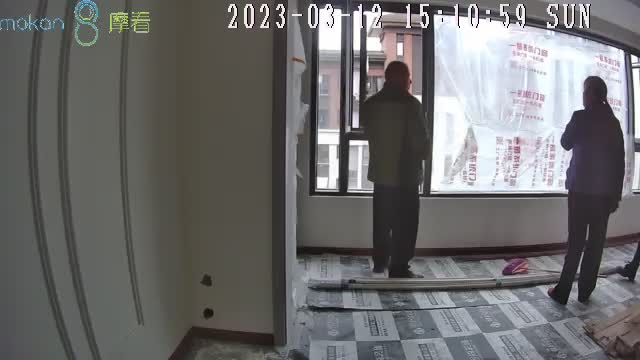people: (549, 76, 627, 303), (362, 60, 430, 282)
window: (314, 6, 640, 198)
